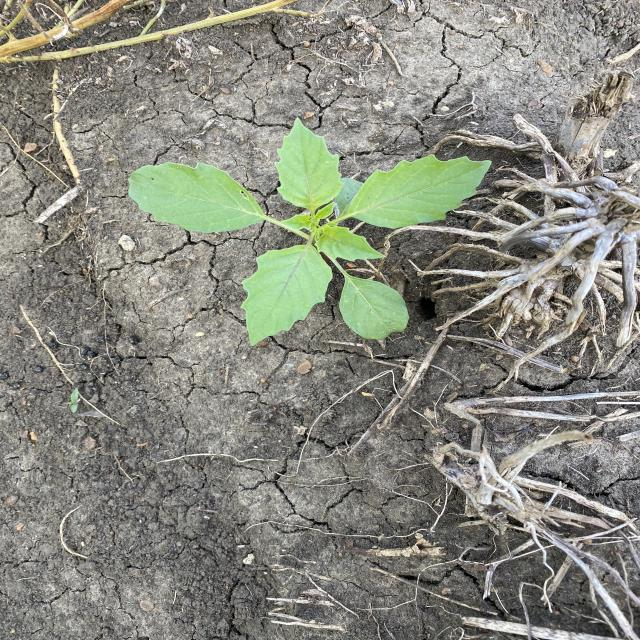CutleafGroundcherry: (126, 115, 494, 349)
